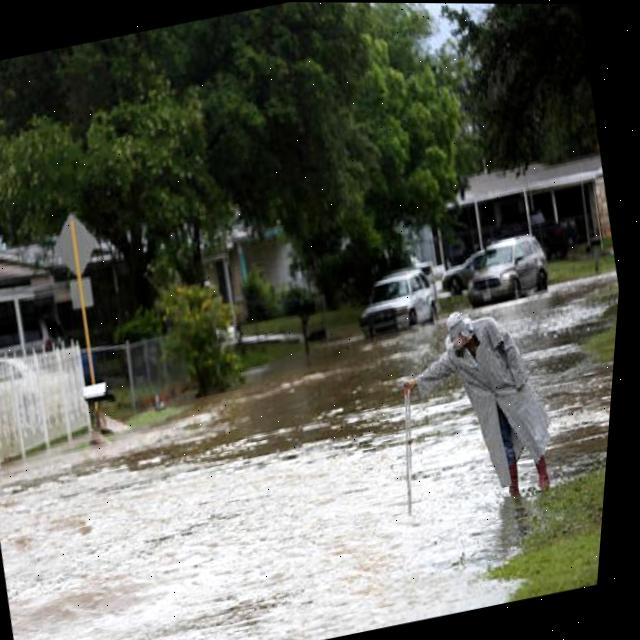civilian: (378, 272, 617, 534)
